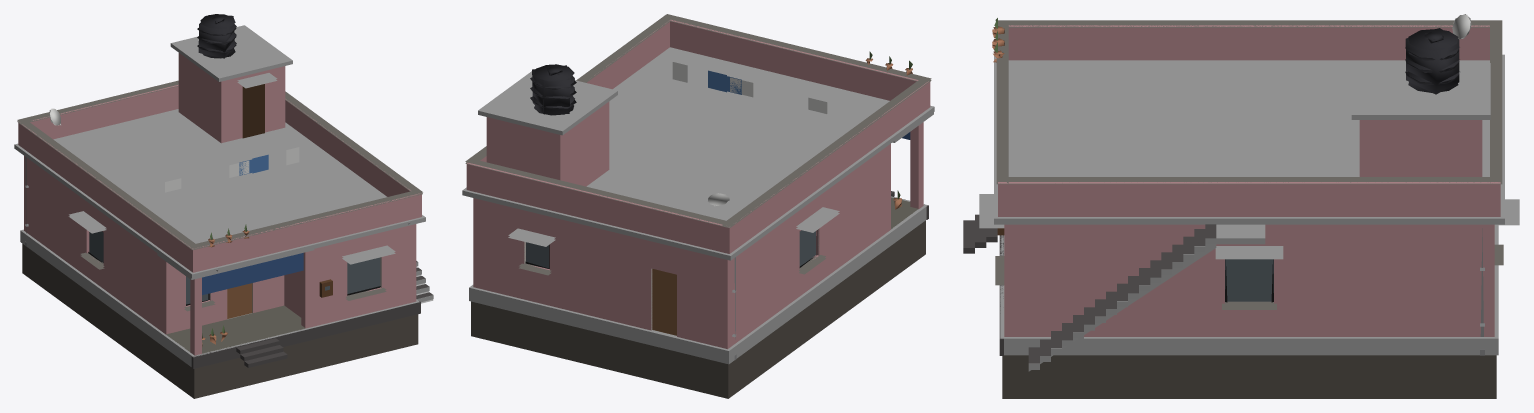
Rendered from tn_house_9x12_1_far.glb.
3 views of the same model, side by side, from view 1: azimuth 30°, elevation 25°; view 2: azimuth 150°, elevation 25°; view 3: azimuth 270°, elevation 25° (orthographic). The views are drawn at different scales.
Visible parts, largest first — view 1: tn_house_9x12_1; view 2: tn_house_9x12_1; view 3: tn_house_9x12_1.
Part boxes in pixels (left/top/right/bottom): tn_house_9x12_1: left=14, top=14, right=433, bottom=398; tn_house_9x12_1: left=462, top=14, right=934, bottom=398; tn_house_9x12_1: left=963, top=14, right=1519, bottom=398.
Size of the model in its own units: 10.66 by 8.85 by 13.61.
